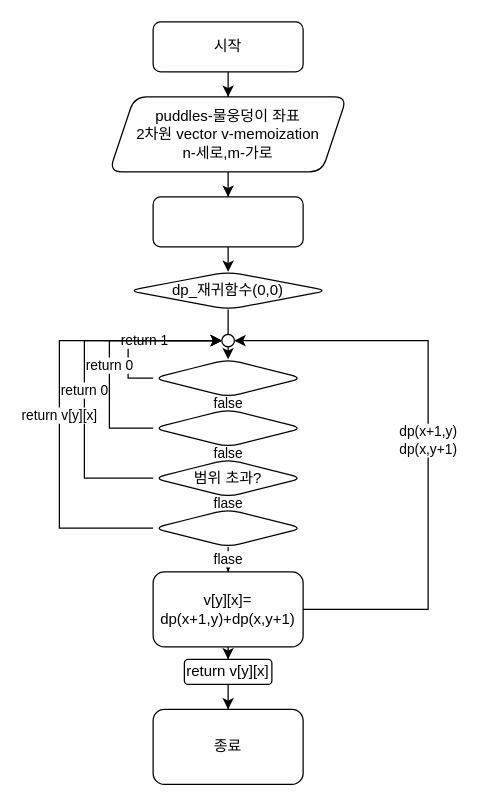
Some shapes in this 479 by 806 pixel diagram are drawn without their labels. The centre of each missing label's shape, as x and y in pixels:
"vector v에 웅덩이 좌표 value -1로 초기화" goes at (227,221).
"목적지 도달?" goes at (227,377).
"물웅덩이?" goes at (227,427).
"중복 계산?" goes at (227,527).
